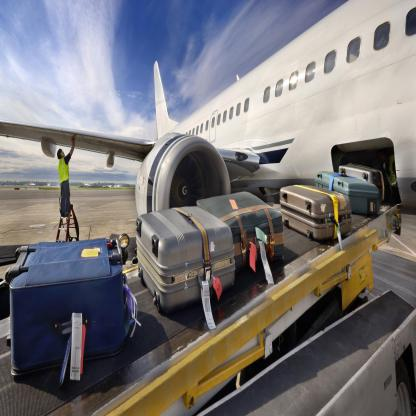baggagetruck: (9, 142, 403, 415)
